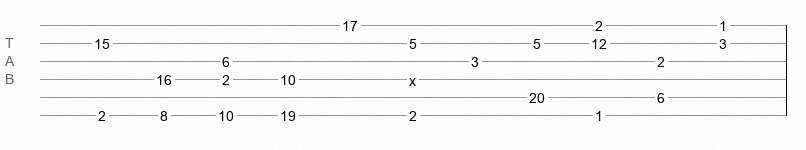1: (595, 108, 603, 118), (719, 18, 727, 28)
10: (218, 108, 234, 118), (280, 72, 296, 82)
12: (591, 36, 607, 46)
15: (94, 36, 110, 46)
16: (156, 72, 172, 82)
17: (342, 18, 358, 28)
19: (280, 108, 296, 118)
2: (98, 108, 106, 118), (222, 72, 230, 82), (409, 108, 417, 118), (595, 18, 603, 28), (657, 54, 665, 64)
20: (529, 90, 545, 100)
3: (471, 54, 479, 64), (719, 36, 727, 46)
5: (409, 36, 417, 46), (533, 36, 541, 46)
6: (222, 54, 230, 64), (657, 90, 665, 100)
8: (160, 108, 168, 118)
x: (409, 73, 416, 81)
